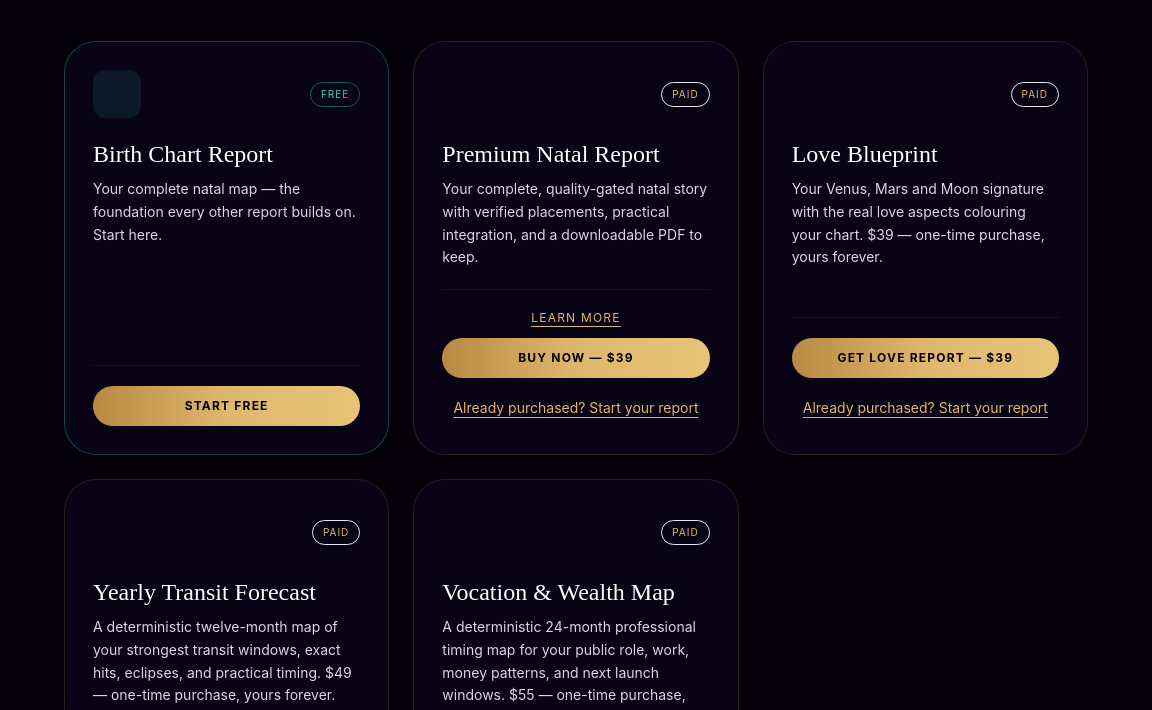
Test: ReportsView paid-report delivery gate › shows missing-content as a truthful non-ready state without dossier controls
(page scrolled)
Click the button "BUY NOW — $39" at (576, 358), box [442,338,710,378]
(page scrolled)
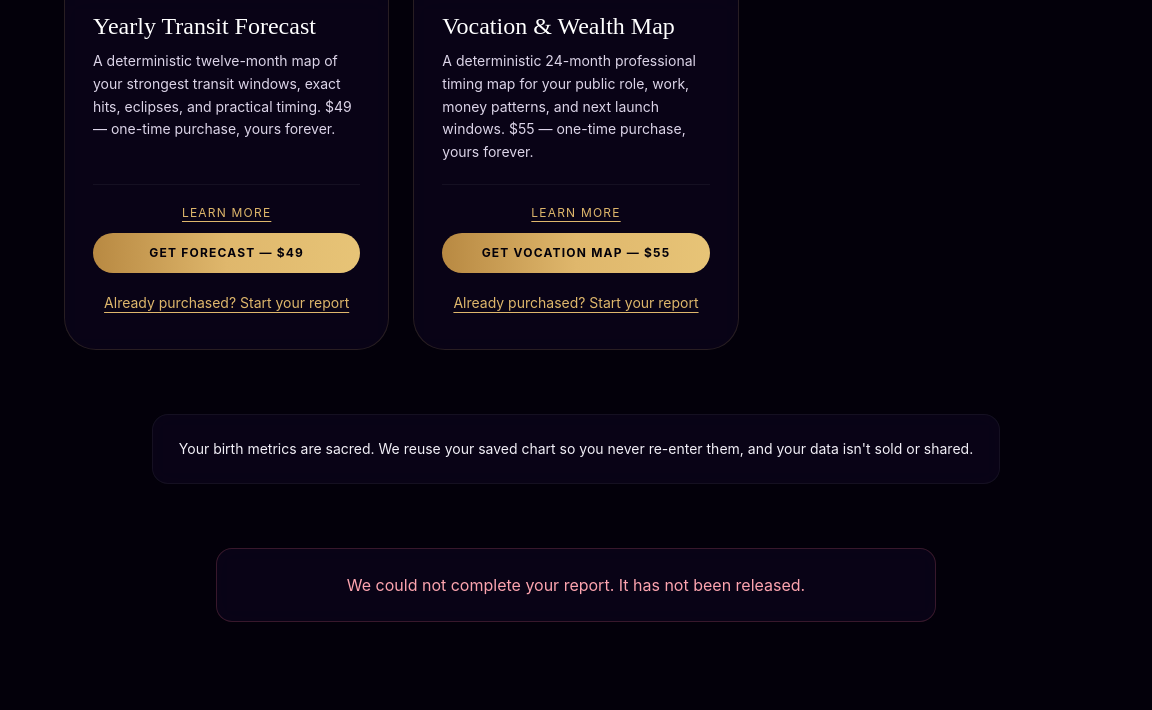
Check: the text "We could not complete your report. It has not been released." is shown, box [216,548,936,622]
